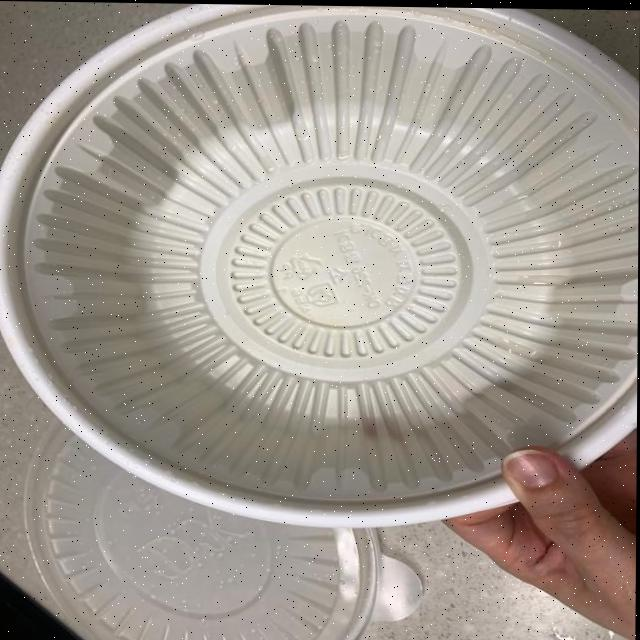disposable: (0, 0, 640, 540)
